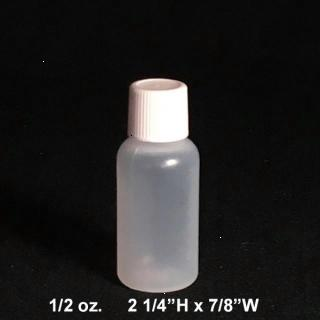Plastic-bottle: (114, 75, 204, 295)
